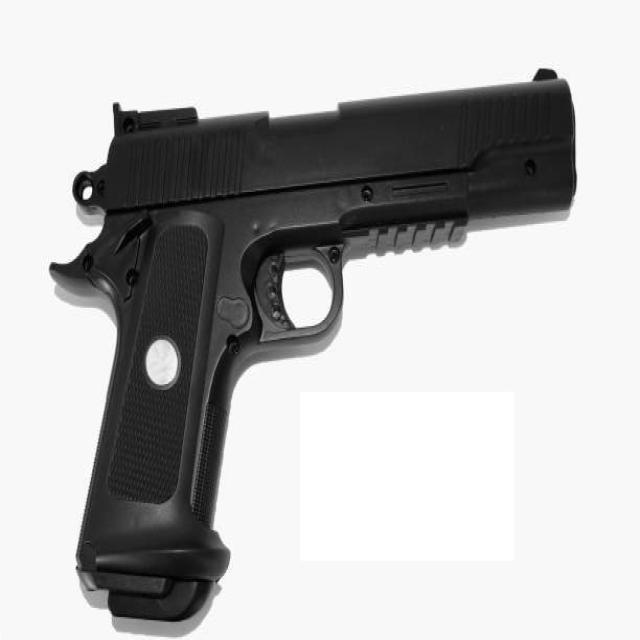pistol: (44, 54, 585, 640)
